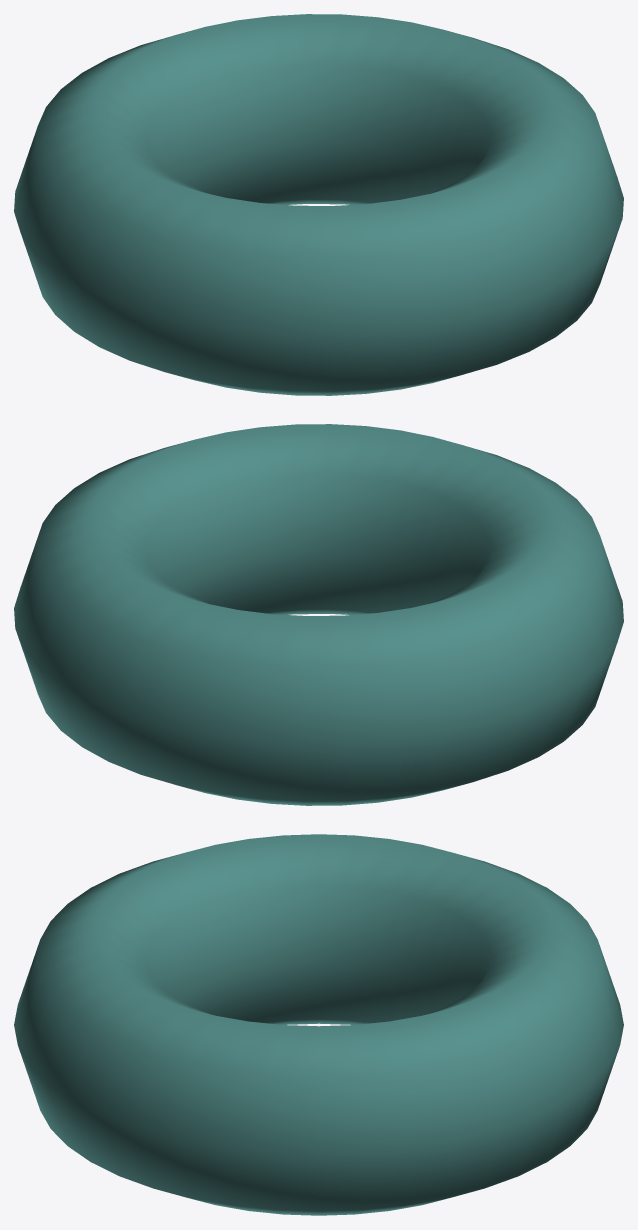
Rendered from wp-tore-geometrique.glb.
3 renders of one model, top to bottom at view 1: azimuth 30°, elevation 25°; view 2: azimuth 150°, elevation 25°; view 3: azimuth 270°, elevation 25°, orthographic.
Visible parts, largest first — view 1: wp-tore-geometrique; view 2: wp-tore-geometrique; view 3: wp-tore-geometrique.
Part boxes in pixels (x1,y1,x2,y2): wp-tore-geometrique: (14,14,623,395); wp-tore-geometrique: (14,424,623,805); wp-tore-geometrique: (14,834,623,1215).
Size of the model in its own units: 0.35 by 0.12 by 0.35.
